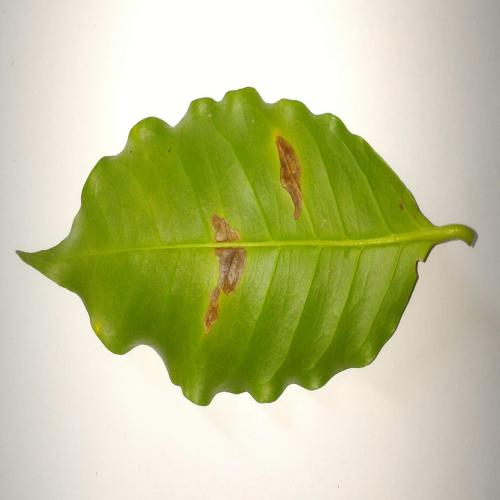leaf: (275, 133, 302, 220)
